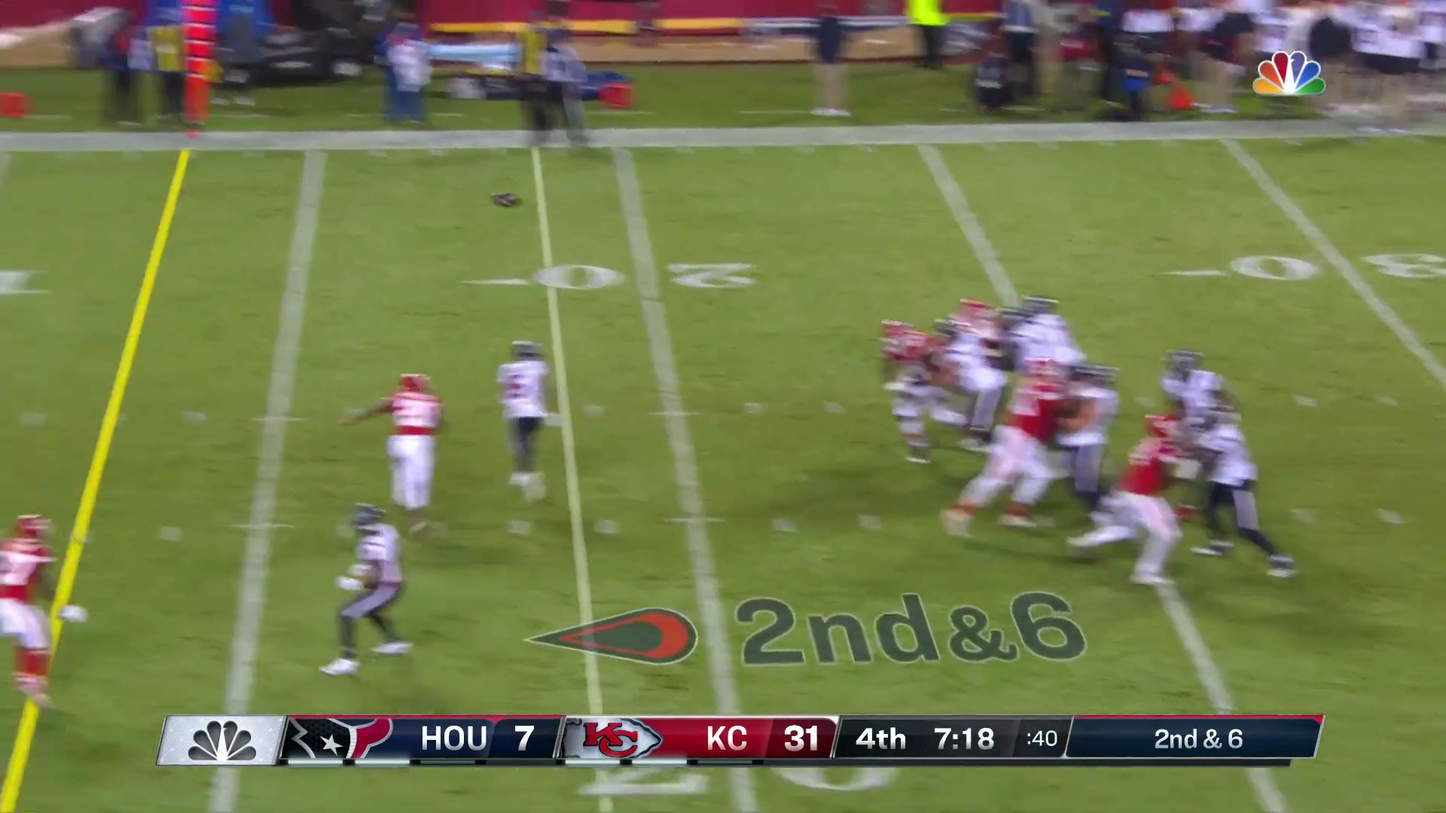Player: (943, 403, 1053, 530), (1162, 352, 1248, 486), (336, 504, 405, 670), (987, 363, 1056, 517), (1117, 417, 1181, 582), (1191, 395, 1263, 541), (1008, 300, 1079, 436), (0, 522, 52, 699), (1053, 364, 1118, 501), (944, 301, 1007, 433), (498, 341, 549, 499), (881, 320, 936, 461), (387, 373, 442, 508), (1162, 350, 1220, 433)
